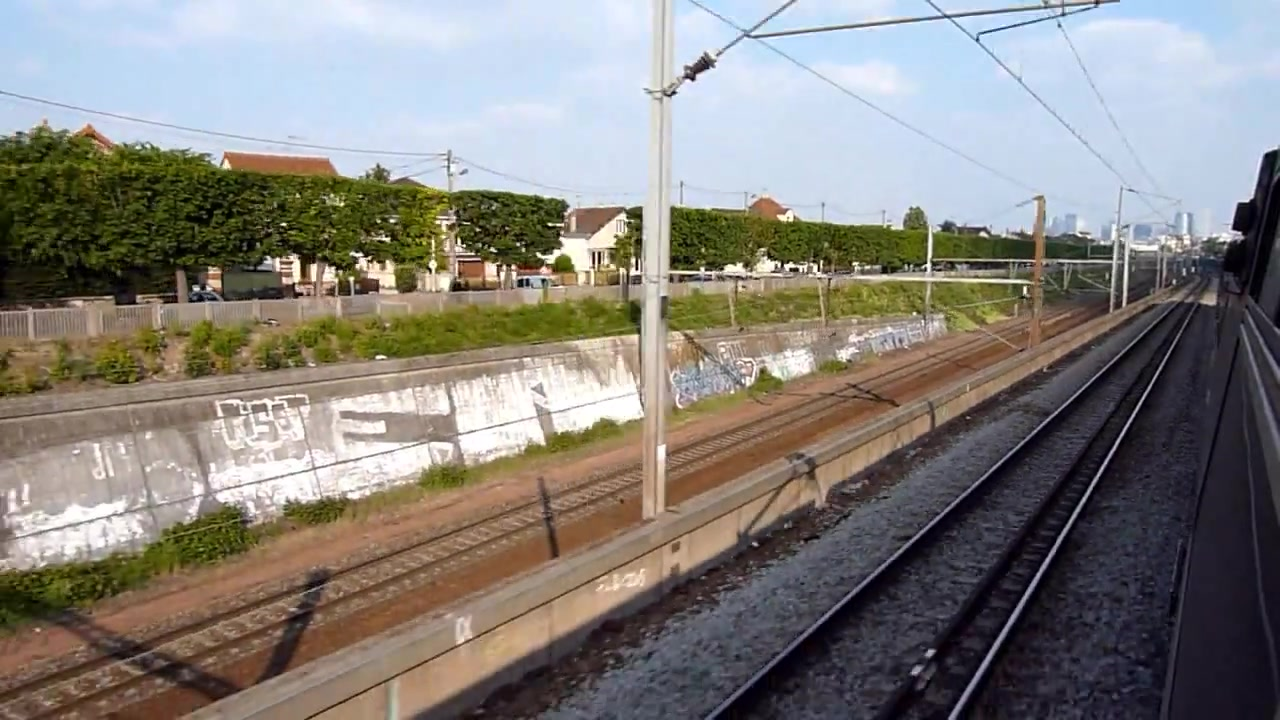train: (1164, 142, 1280, 720)
